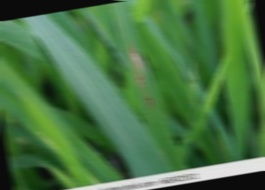Brown_Spot: (130, 40, 143, 84), (143, 88, 155, 108)
